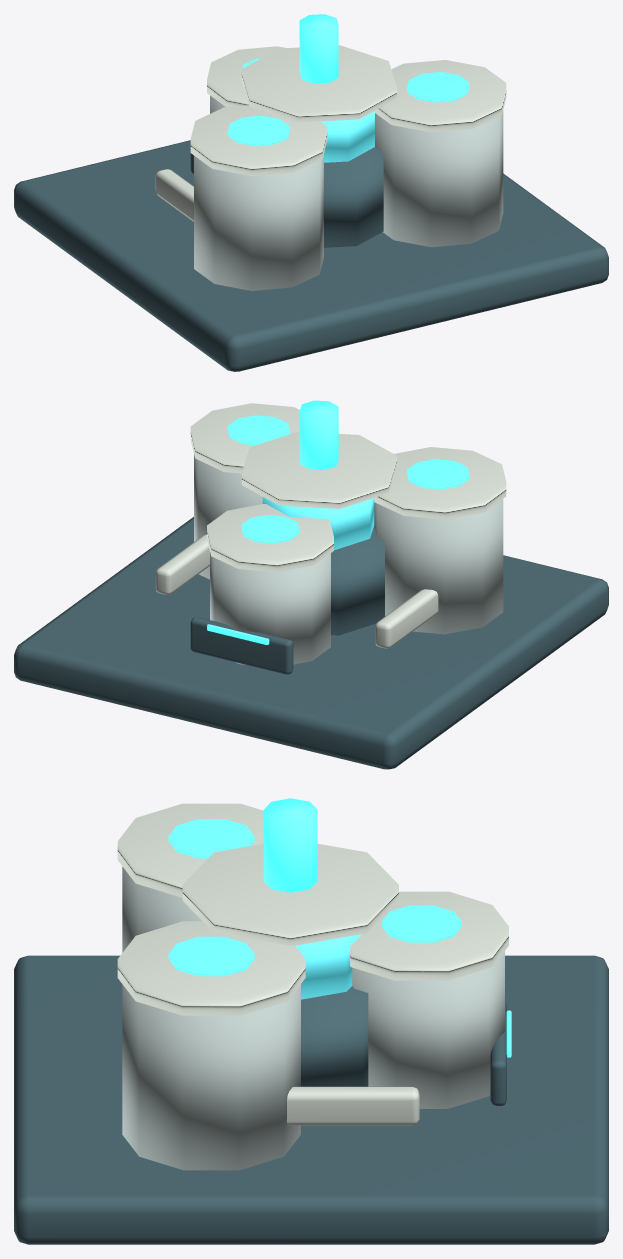
Rendered from advanced-power.glb.
The picture shows the model from 3 angles, top to bottom: view 1: azimuth 30°, elevation 25°; view 2: azimuth 150°, elevation 25°; view 3: azimuth 270°, elevation 25°; orthographic projection. The views are drawn at different scales.
Visible parts, largest first — view 1: Advanced reactor foundation, Reactor containment pod, Reactor containment pod.001, Containment halo, Pod crown, Pod crown.001, Fusion core plinth, Core beacon, Pod crown.002, Fusion chamber, Pod indicator, Pod indicator.001 (+1 smaller); view 2: Advanced reactor foundation, Reactor containment pod, Reactor containment pod.002, Containment halo, Pod crown, Pod crown.002, Fusion core plinth, Pod crown.001, Front control console, Reactor containment pod.001, Core beacon, Fusion chamber (+5 smaller); view 3: Advanced reactor foundation, Reactor containment pod.001, Reactor containment pod.002, Containment halo, Pod crown.001, Pod crown.002, Pod crown, Fusion core plinth, Power conduit.001, Core beacon, Reactor containment pod, Pod indicator.001 (+4 smaller).
Part boxes in pixels (x1,y1,x2,y2): Advanced reactor foundation: [14, 140, 608, 371]; Reactor containment pod: [194, 154, 323, 290]; Reactor containment pod.001: [375, 110, 503, 247]; Containment halo: [241, 45, 396, 122]; Pod crown: [190, 105, 327, 176]; Pod crown.001: [373, 60, 506, 132]; Fusion core plinth: [324, 147, 383, 247]; Core beacon: [299, 14, 338, 83]; Pod crown.002: [207, 46, 286, 107]; Fusion chamber: [320, 112, 374, 162]; Pod indicator: [227, 115, 289, 146]; Pod indicator.001: [407, 72, 469, 102]; Advanced reactor foundation: [14, 517, 608, 769]; Reactor containment pod: [374, 499, 503, 634]; Reactor containment pod.002: [210, 552, 330, 664]; Containment halo: [241, 431, 396, 508]; Pod crown: [373, 447, 506, 519]; Pod crown.002: [207, 504, 333, 572]; Fusion core plinth: [331, 526, 384, 635]; Pod crown.001: [190, 403, 299, 473]; Front control console: [190, 617, 293, 674]; Reactor containment pod.001: [194, 454, 262, 579]; Core beacon: [299, 400, 338, 469]; Fusion chamber: [262, 497, 374, 550]; Advanced reactor foundation: [14, 955, 608, 1244]; Reactor containment pod.001: [122, 984, 300, 1170]; Reactor containment pod.002: [352, 951, 504, 1108]; Containment halo: [182, 843, 398, 945]; Pod crown.001: [117, 921, 305, 1015]; Pod crown.002: [350, 891, 508, 980]; Pod crown: [117, 803, 263, 897]; Fusion core plinth: [301, 986, 368, 1086]; Power conduit.001: [287, 1086, 419, 1125]; Core beacon: [263, 798, 317, 892]; Reactor containment pod: [122, 866, 202, 952]; Pod indicator.001: [168, 936, 254, 976].
Size of the model in its own units: 2.86 by 1.67 by 2.86.
